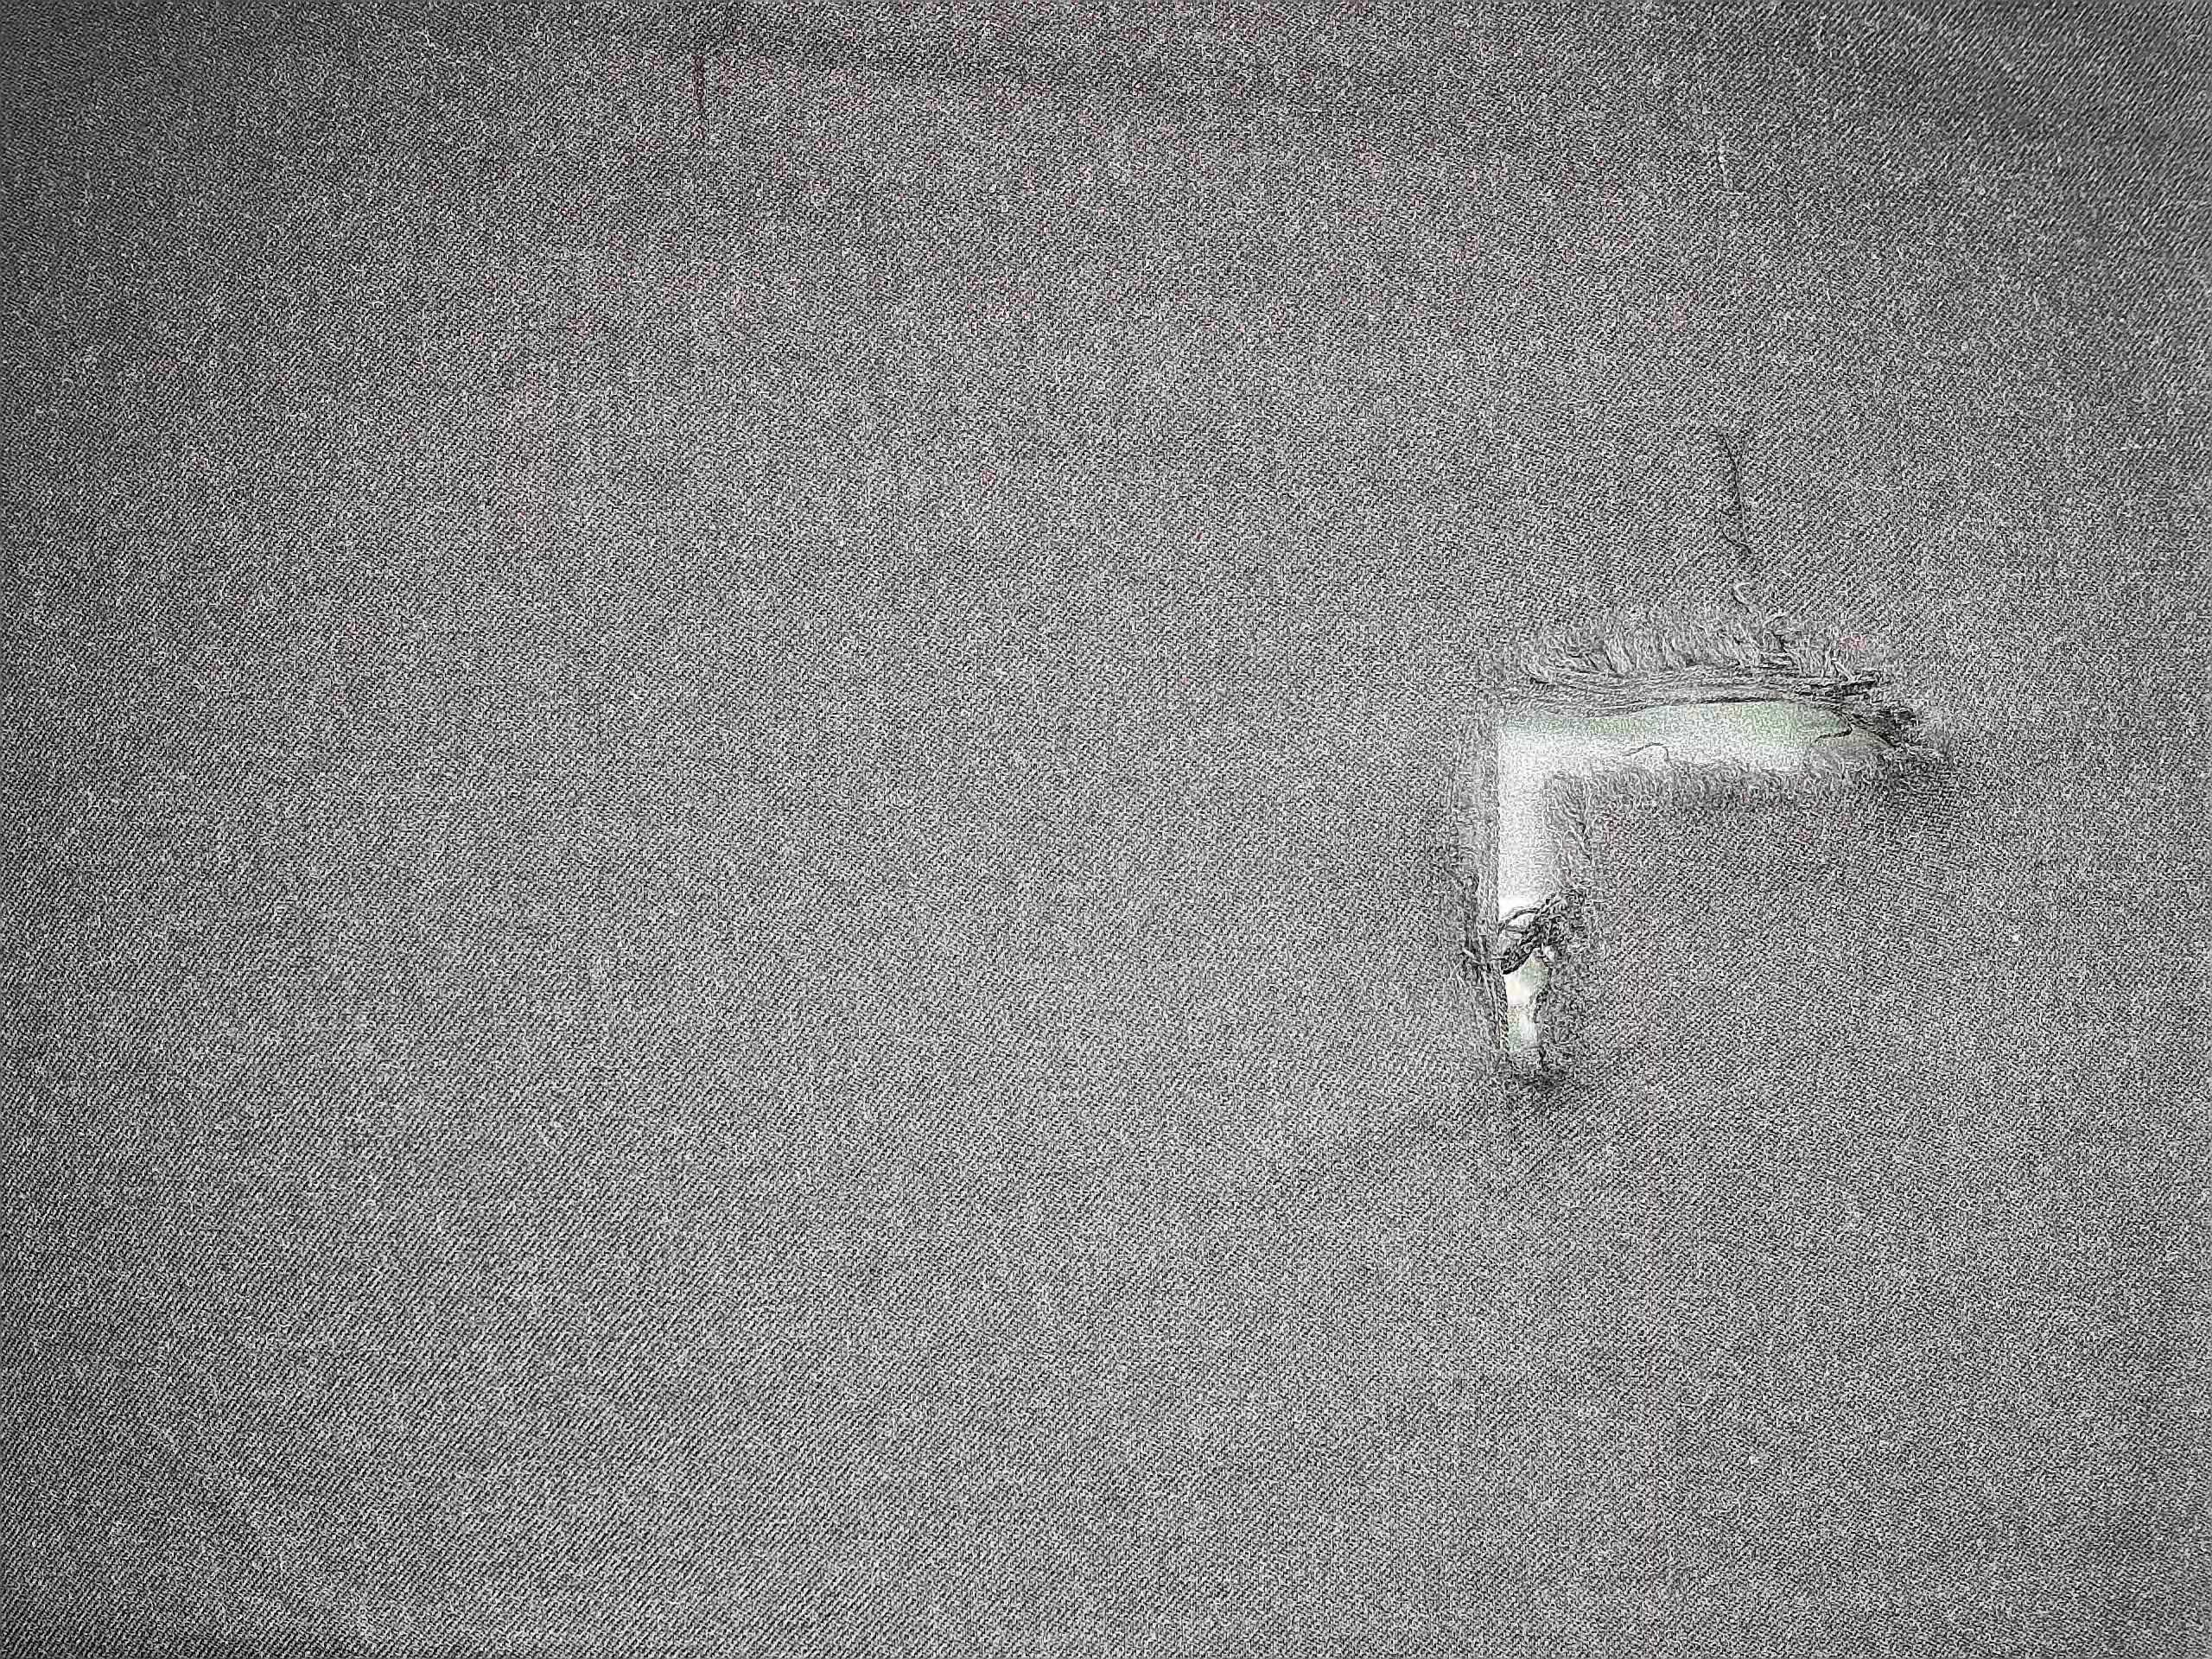brushed-hole: (1379, 573, 1984, 1138)
